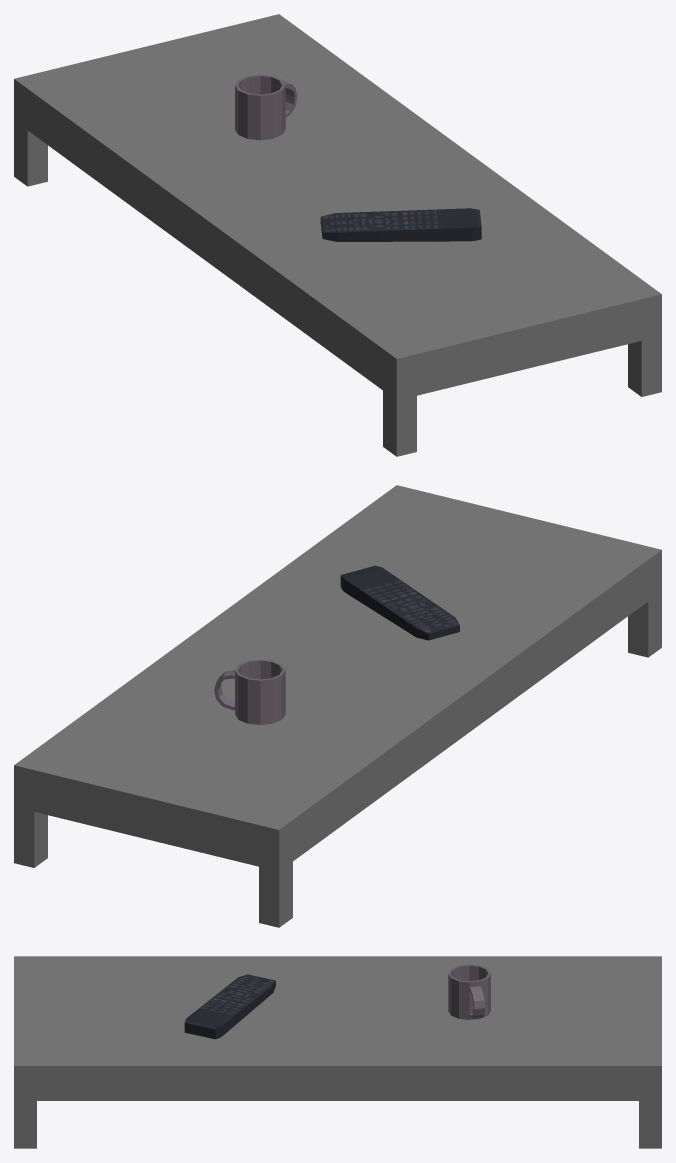
File: Mesa.glb
3 renders of one model, top to bottom at view 1: azimuth 30°, elevation 25°; view 2: azimuth 150°, elevation 25°; view 3: azimuth 270°, elevation 25°, orthographic. The views are drawn at different scales.
Visible parts, largest first — view 1: Coffee_Table-convcol, Controller, Mug; view 2: Coffee_Table-convcol, Controller, Mug; view 3: Coffee_Table-convcol, Controller, Mug.
Boxes of the visible parts, <box> form: Coffee_Table-convcol: <box>14,14,661,456</box>; Controller: <box>320,208,481,241</box>; Mug: <box>235,74,297,140</box>; Coffee_Table-convcol: <box>14,485,661,927</box>; Controller: <box>340,565,459,640</box>; Mug: <box>214,659,285,724</box>; Coffee_Table-convcol: <box>14,956,661,1148</box>; Controller: <box>184,974,275,1039</box>; Mug: <box>448,964,490,1019</box>.
Bounding box in the file's own units: 1 × 0.5127 × 2.5.
3 materials, 1 textured.
